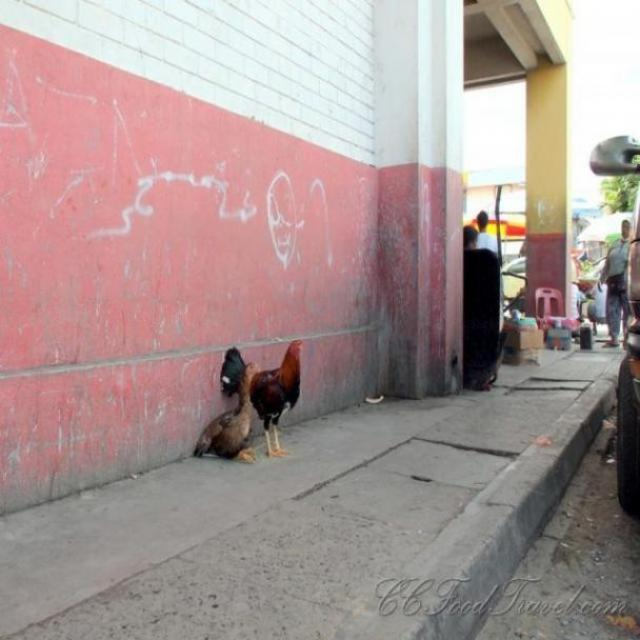Chicken: (190, 359, 263, 465), (261, 339, 315, 452)
